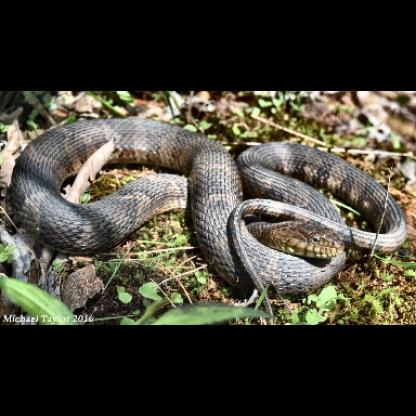Snake: (7, 119, 411, 305)
